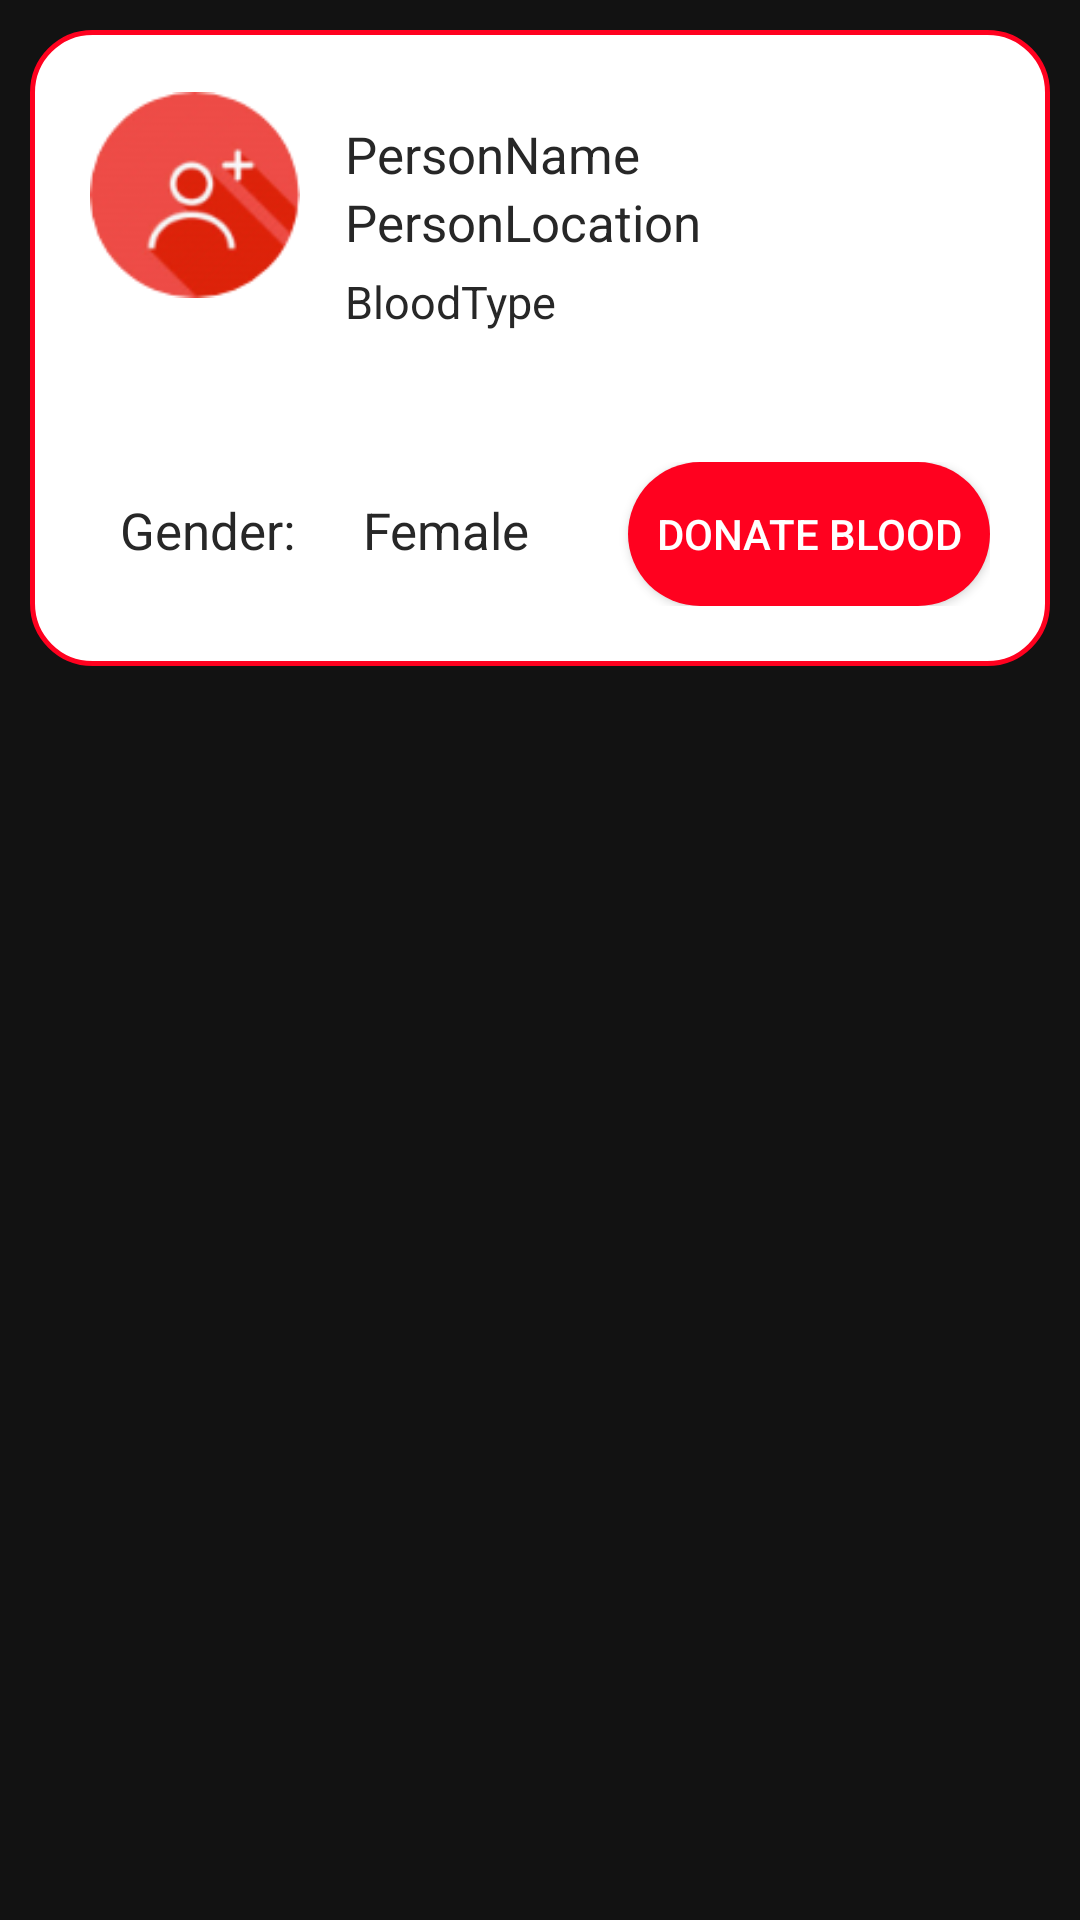

Where to tap for icons on this 1080×1920 app screen, as (x,y):
profileicon: (195,195)
